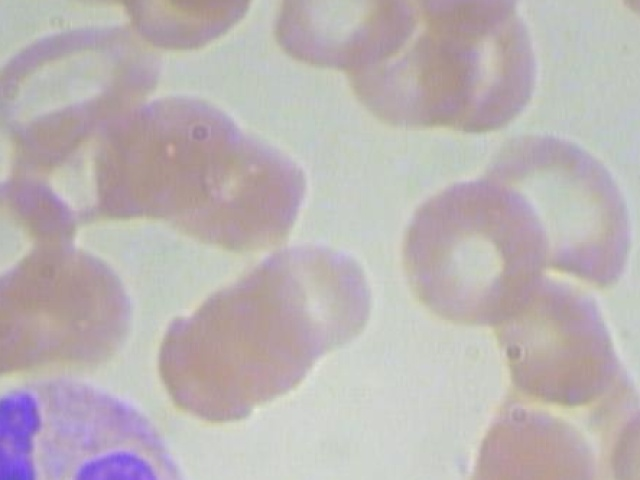Platelets: (633, 149, 640, 208)
RBC: (480, 125, 639, 294), (0, 3, 162, 163), (399, 172, 557, 334), (487, 263, 629, 408), (451, 387, 609, 480), (264, 0, 431, 77), (0, 171, 83, 314), (399, 0, 554, 31), (611, 392, 640, 480), (591, 0, 640, 27)
WBC: (0, 357, 224, 480)
